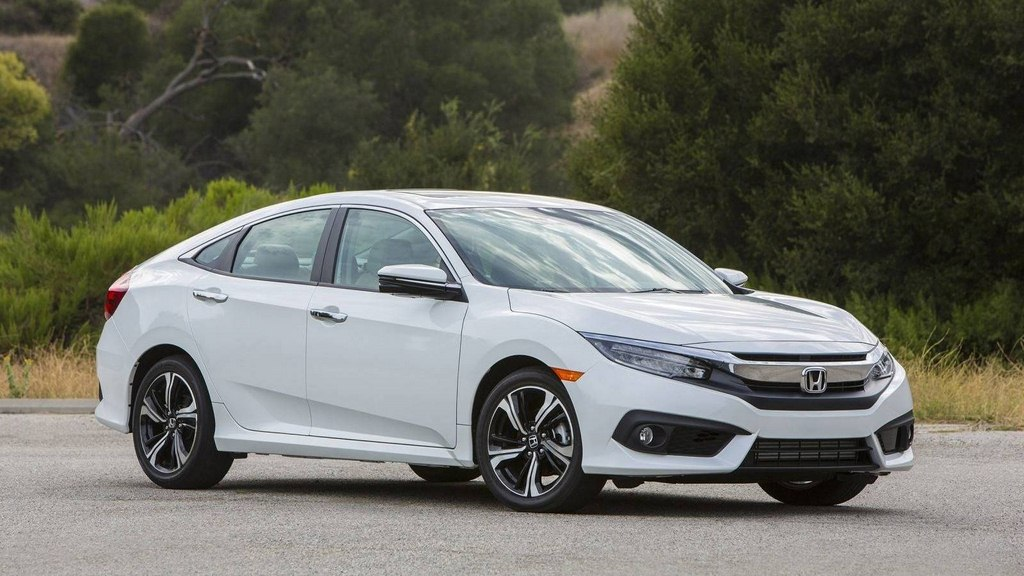car: (93, 189, 920, 509)
